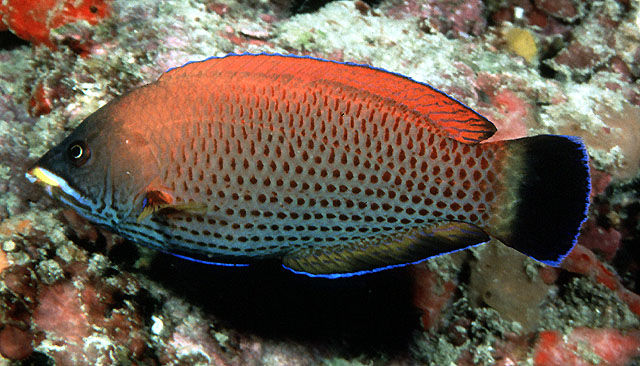fish: (26, 53, 593, 280)
